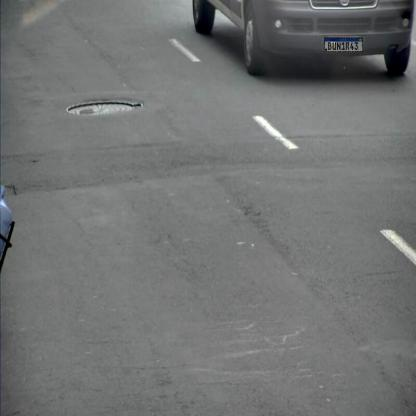PlacaM: (324, 37, 363, 52)
